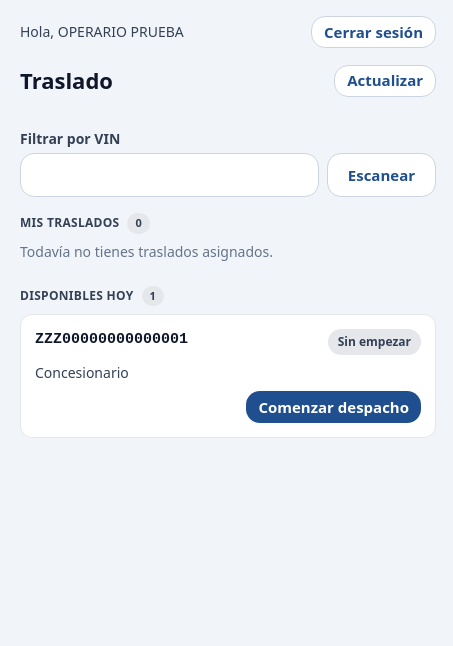
Test: un VIN cuya orden ya salió (otra persona) › con el servidor de hoy (sin el campo nuevo) todo sigue como antes: «Sin orden pendiente»
This screenshot has width=453, height=646.
Expected: the text "ZZZ00000000000001" is shown, [35, 329, 188, 352]
Type "LVTDD24B6VDC81445" into the search field labelled "Filtrar por VIN" at coordinates (169, 175), box [20, 153, 319, 197]
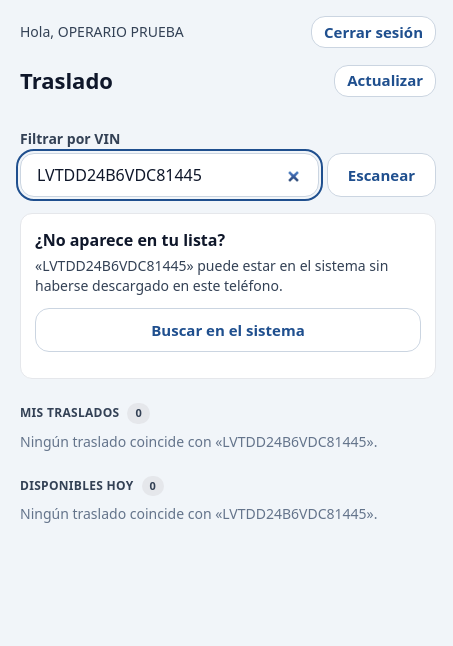
Click the button "Buscar en el sistema" at coordinates (228, 330), box [35, 308, 421, 352]
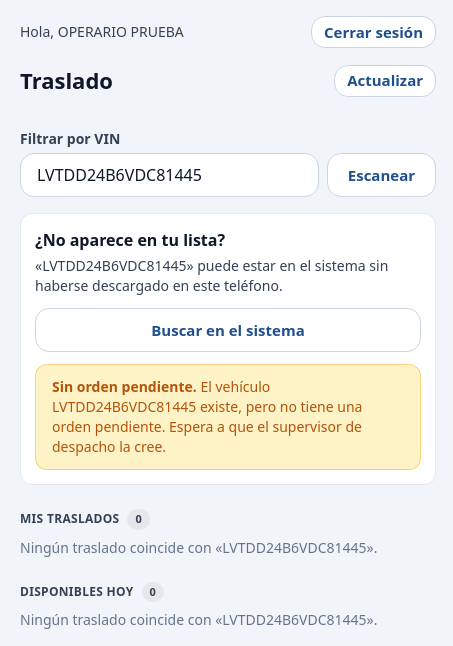
Expected: the text "Sin orden pendiente." is shown, [52, 377, 197, 396]
